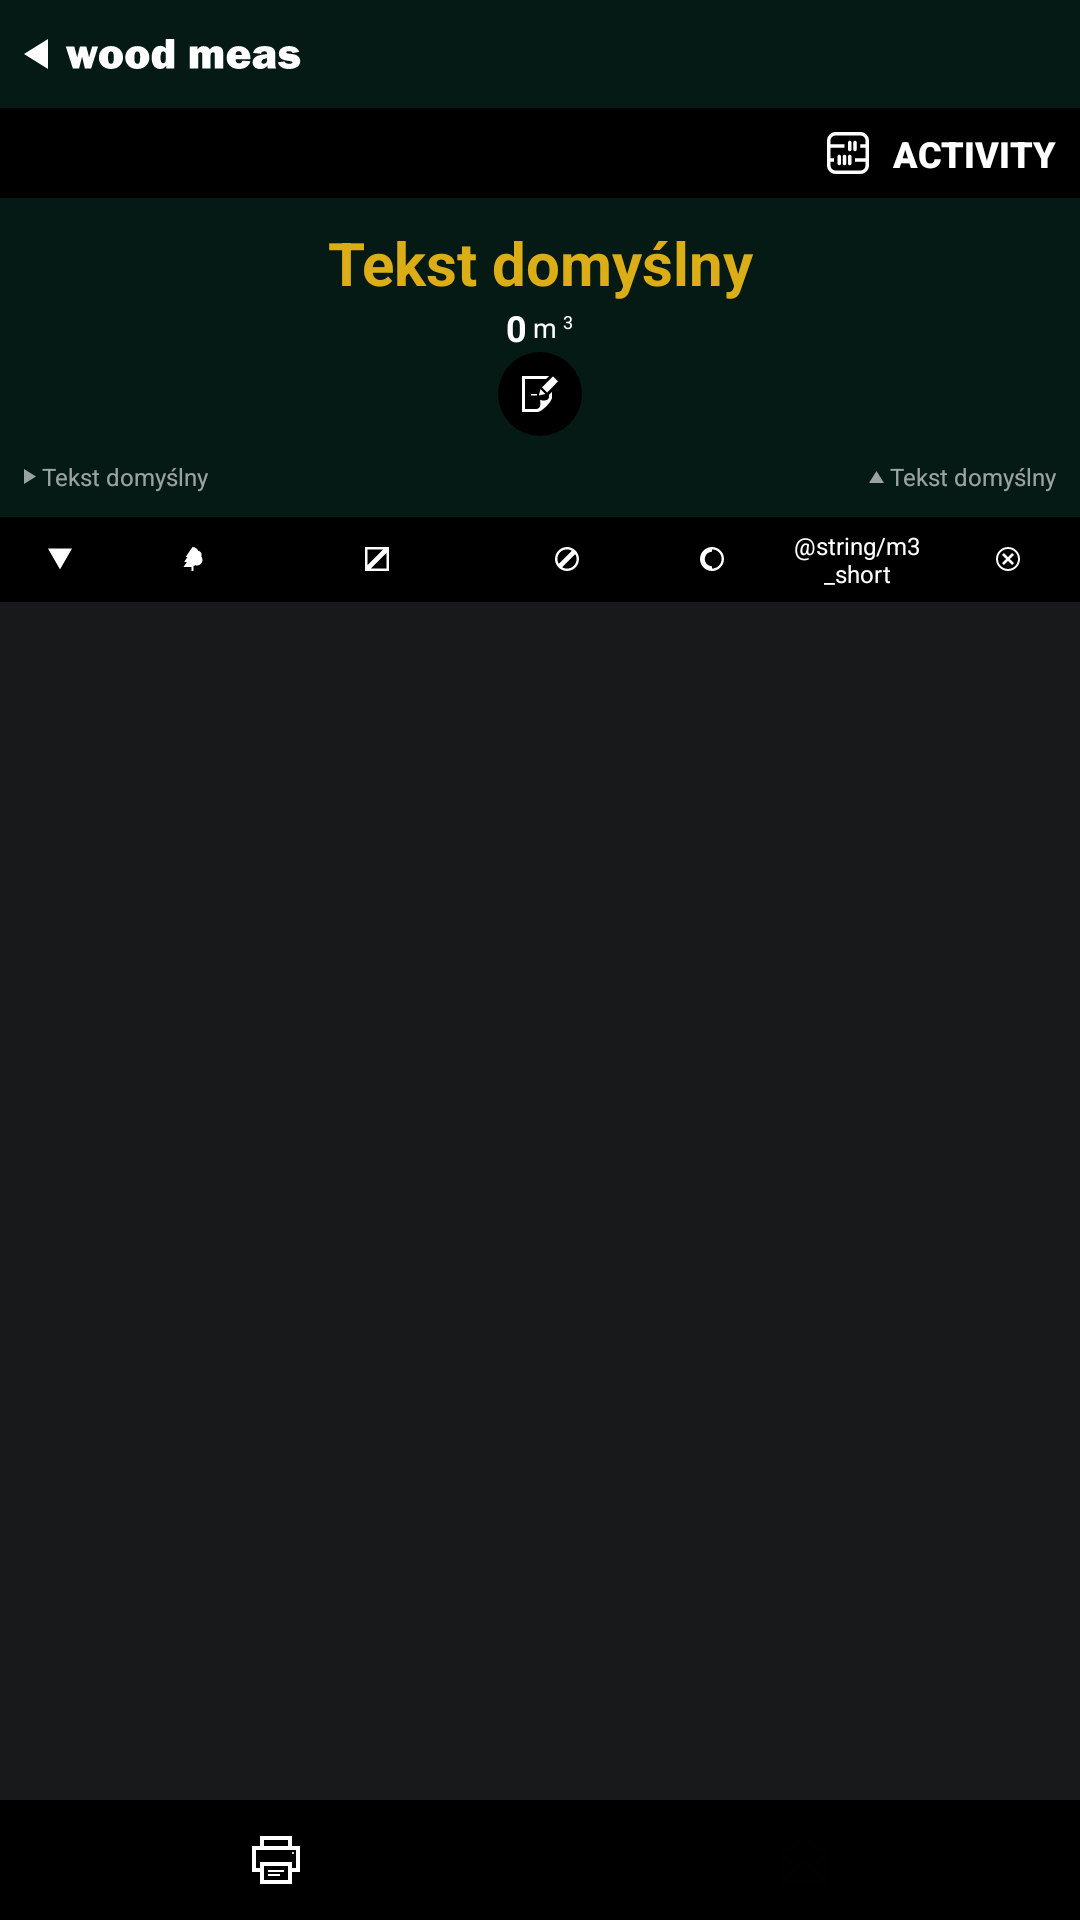

Icons on this 1080px×1920px Android screen, each with its box as {"x1": x1, "y1": y1, "x2": x2, "y2": y2}:
cancel: {"x1": 996, "y1": 547, "x2": 1020, "y2": 571}
diameter: {"x1": 555, "y1": 547, "x2": 579, "y2": 571}
Drukuj: {"x1": 252, "y1": 1836, "x2": 300, "y2": 1884}
item calculator: {"x1": 827, "y1": 132, "x2": 869, "y2": 174}
length: {"x1": 365, "y1": 547, "x2": 389, "y2": 571}
note: {"x1": 498, "y1": 353, "x2": 581, "y2": 435}
tree double: {"x1": 183, "y1": 547, "x2": 203, "y2": 571}
triangle down: {"x1": 48, "y1": 548, "x2": 72, "y2": 569}
